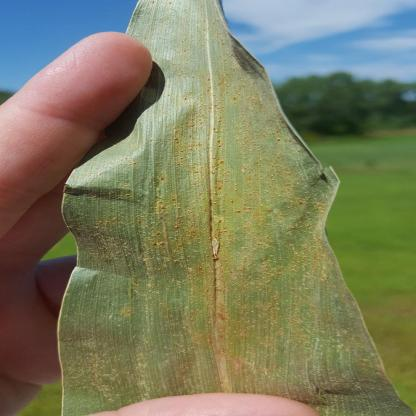corn rust leaf: (62, 3, 395, 394)
